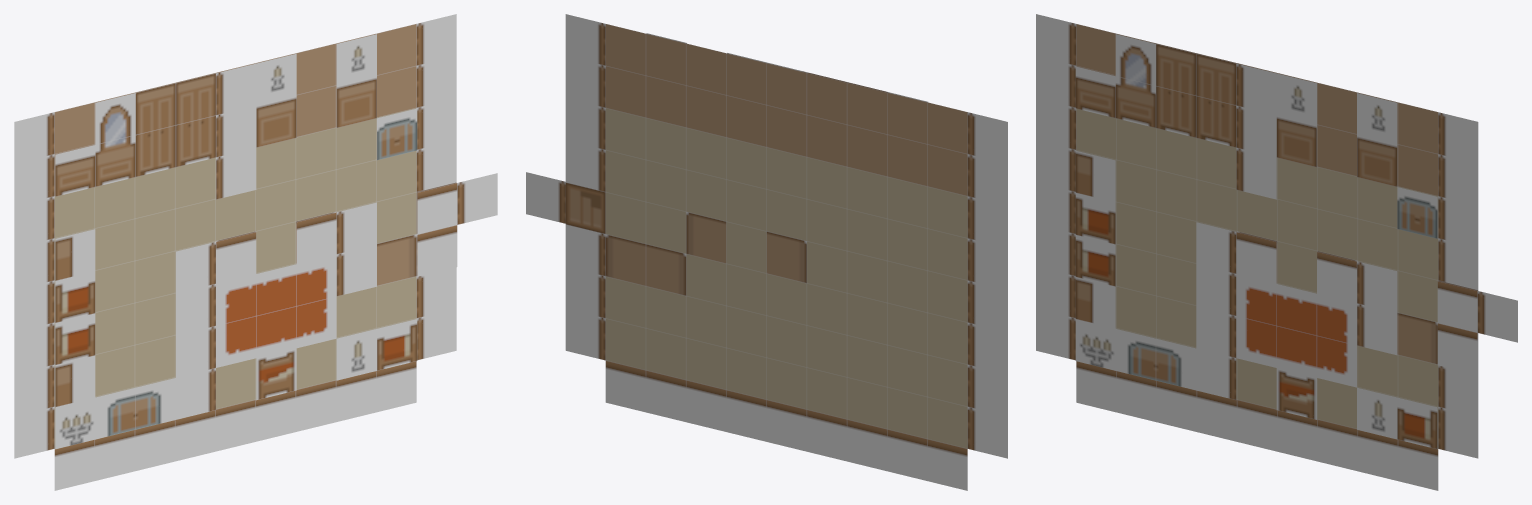
File: house1_b.obj
The picture shows the model from 3 angles, left to right: view 1: azimuth 30°, elevation 25°; view 2: azimuth 150°, elevation 25°; view 3: azimuth 330°, elevation 25°; orthographic projection.
Parts seen in each view (by area): view 1: house1_b.0; view 2: house1_b.0; view 3: house1_b.0.
Part boxes in pixels (x1=…): house1_b.0: x1=14, y1=14, x2=497, y2=490; house1_b.0: x1=526, y1=14, x2=1007, y2=490; house1_b.0: x1=1036, y1=14, x2=1517, y2=490.
Bounding box in the file's own units: 12 × 9 × 0.03.
